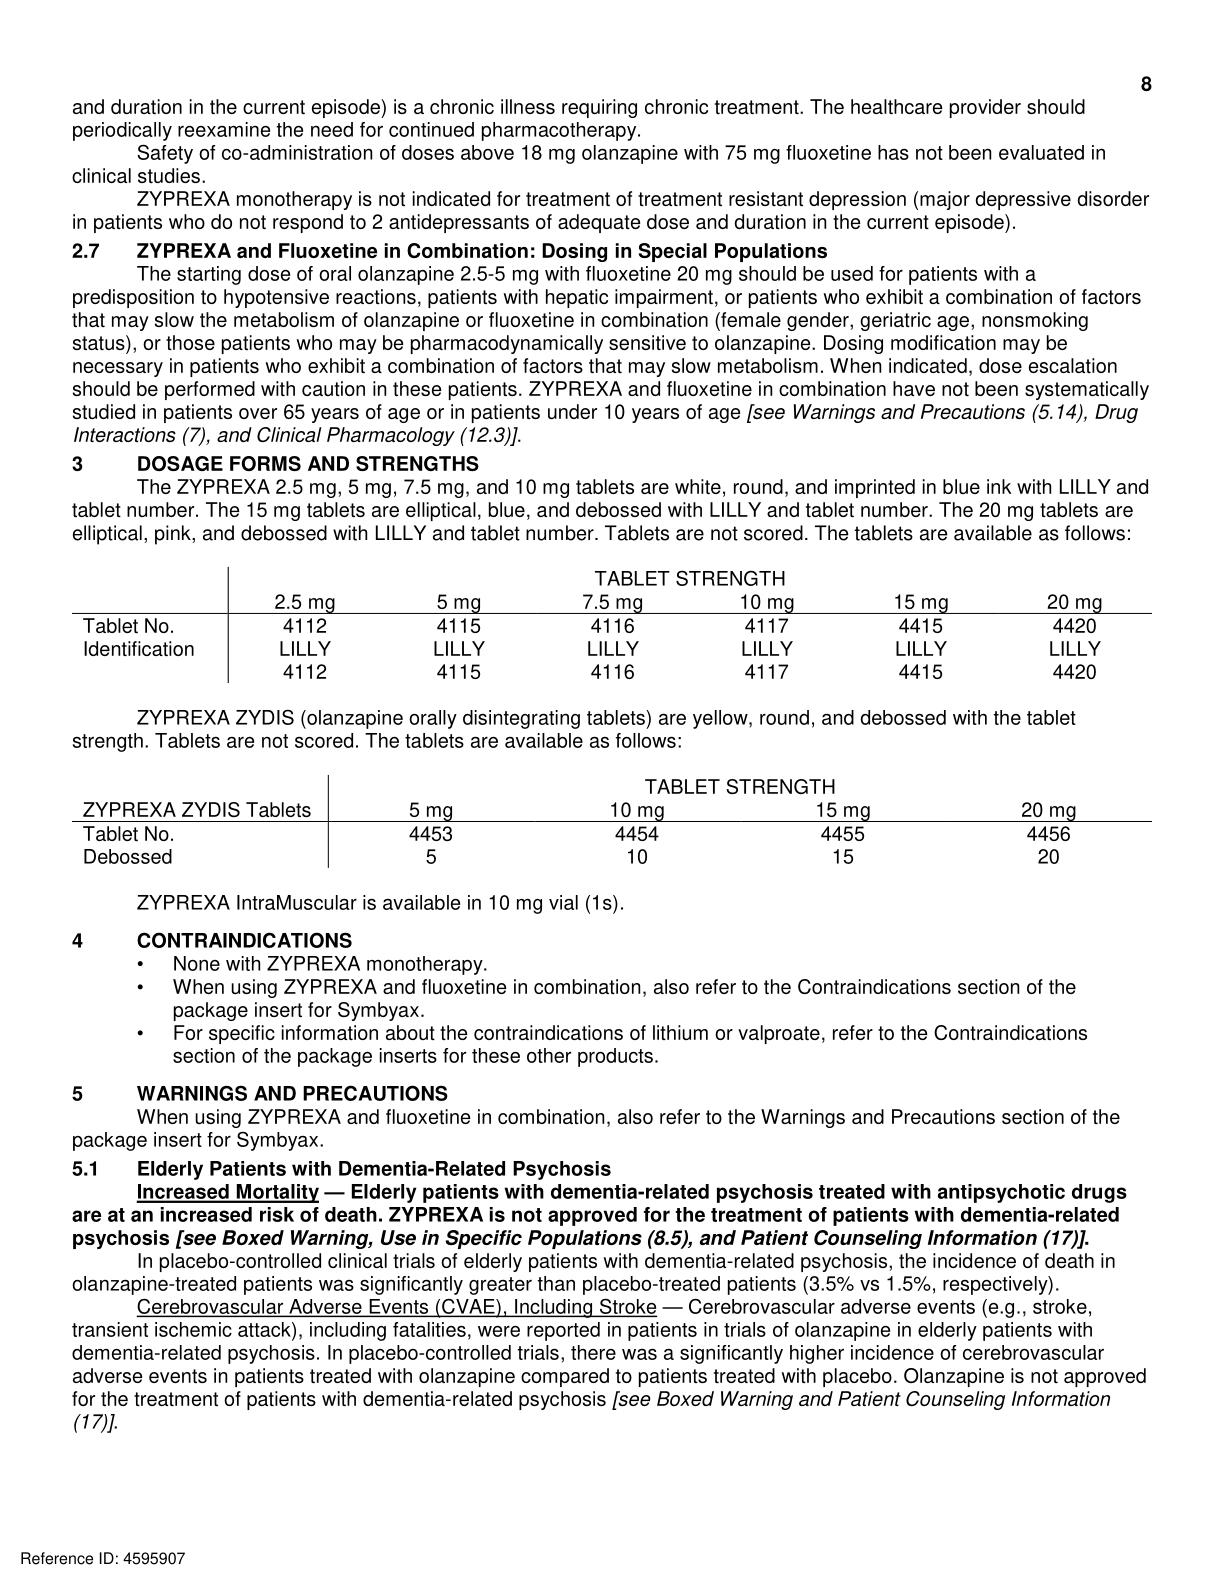partial_lined_merged_cells: (68, 561, 1167, 696), (63, 773, 1165, 872)
